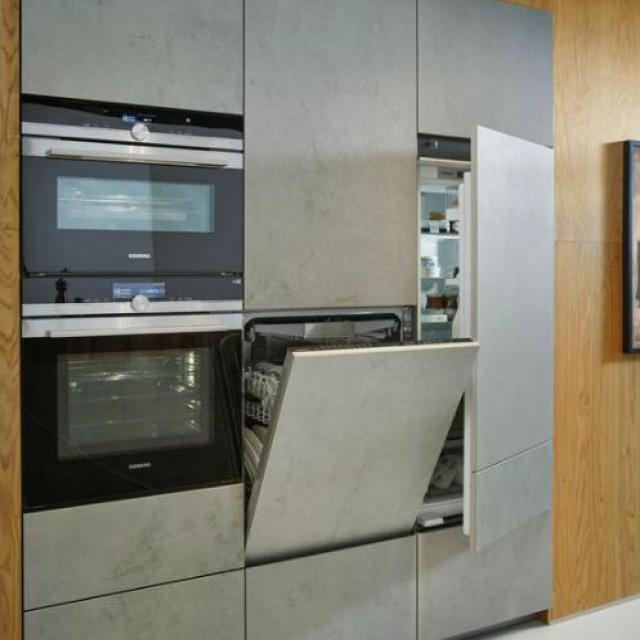dishwasher: (225, 298, 487, 570)
